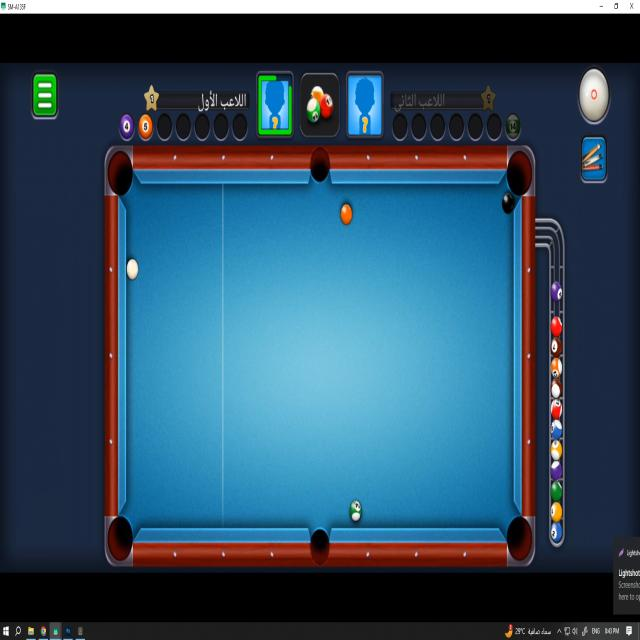object_ball: (502, 192, 514, 213), (350, 501, 361, 522), (341, 204, 352, 225)
white_cue_ball: (127, 259, 138, 280)
